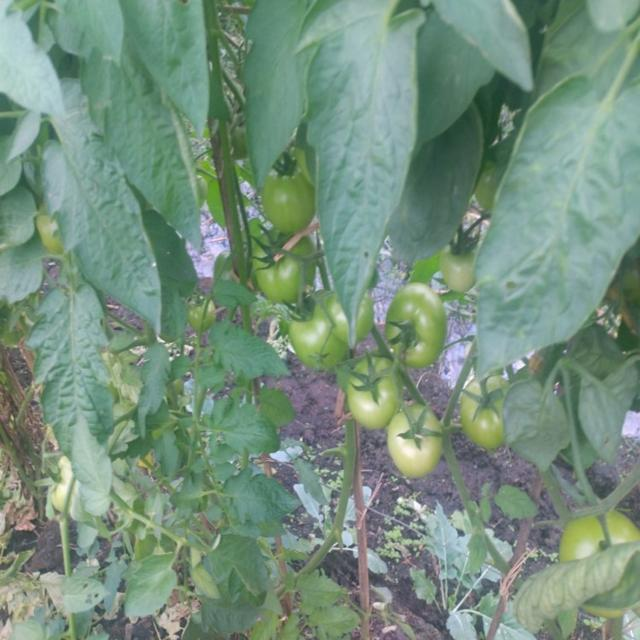tomato: (249, 233, 326, 296), (390, 283, 446, 367), (388, 407, 448, 478), (560, 511, 638, 563), (287, 302, 347, 368), (260, 162, 315, 231), (460, 376, 510, 444), (351, 357, 395, 424), (328, 291, 380, 335), (446, 248, 479, 291), (42, 205, 66, 258), (479, 154, 501, 209), (52, 460, 77, 506), (187, 296, 217, 323)
